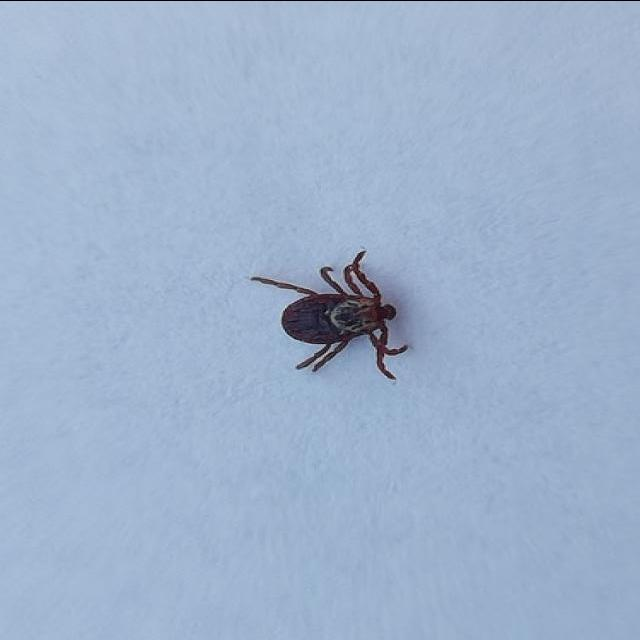Dermacentor Reticulatus-F: (251, 247, 410, 379)
